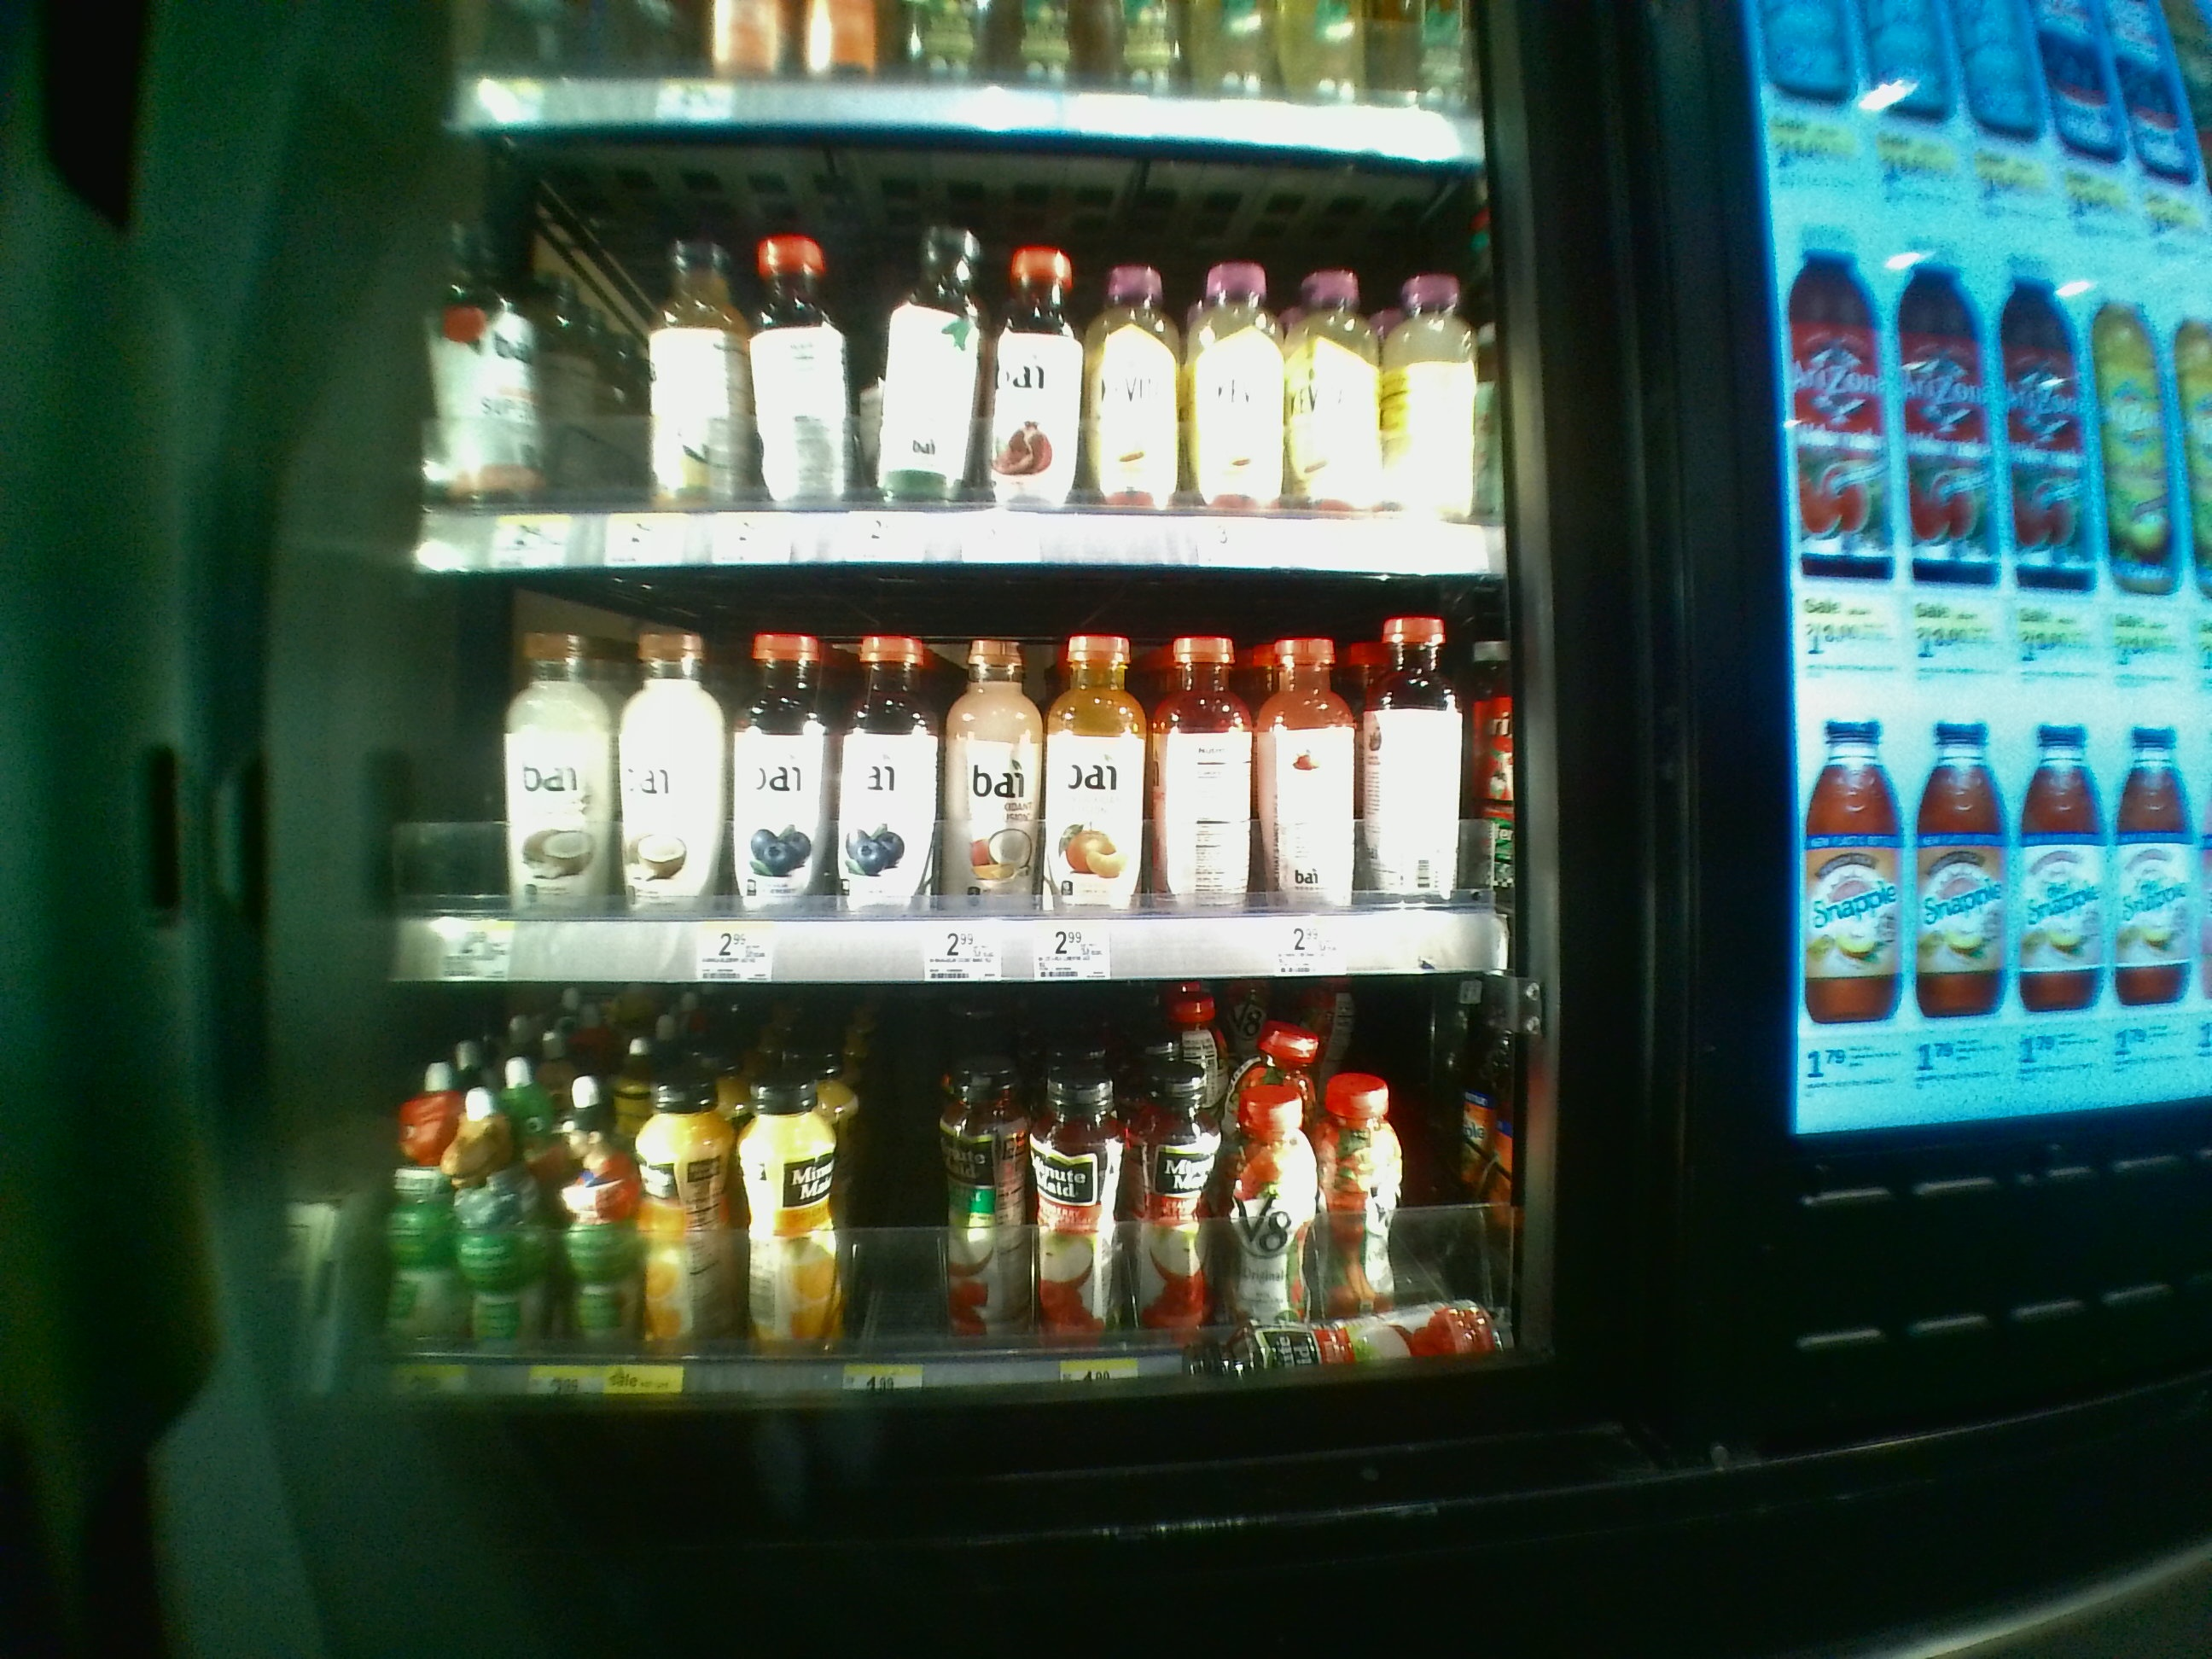shelf: (415, 134, 1491, 575), (388, 990, 1515, 1391), (399, 586, 1501, 972)
